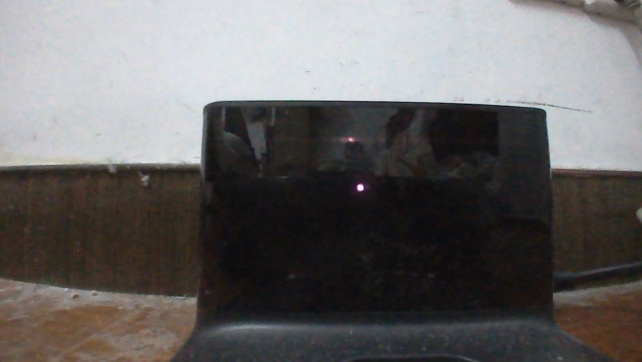wire: (551, 257, 641, 291)
